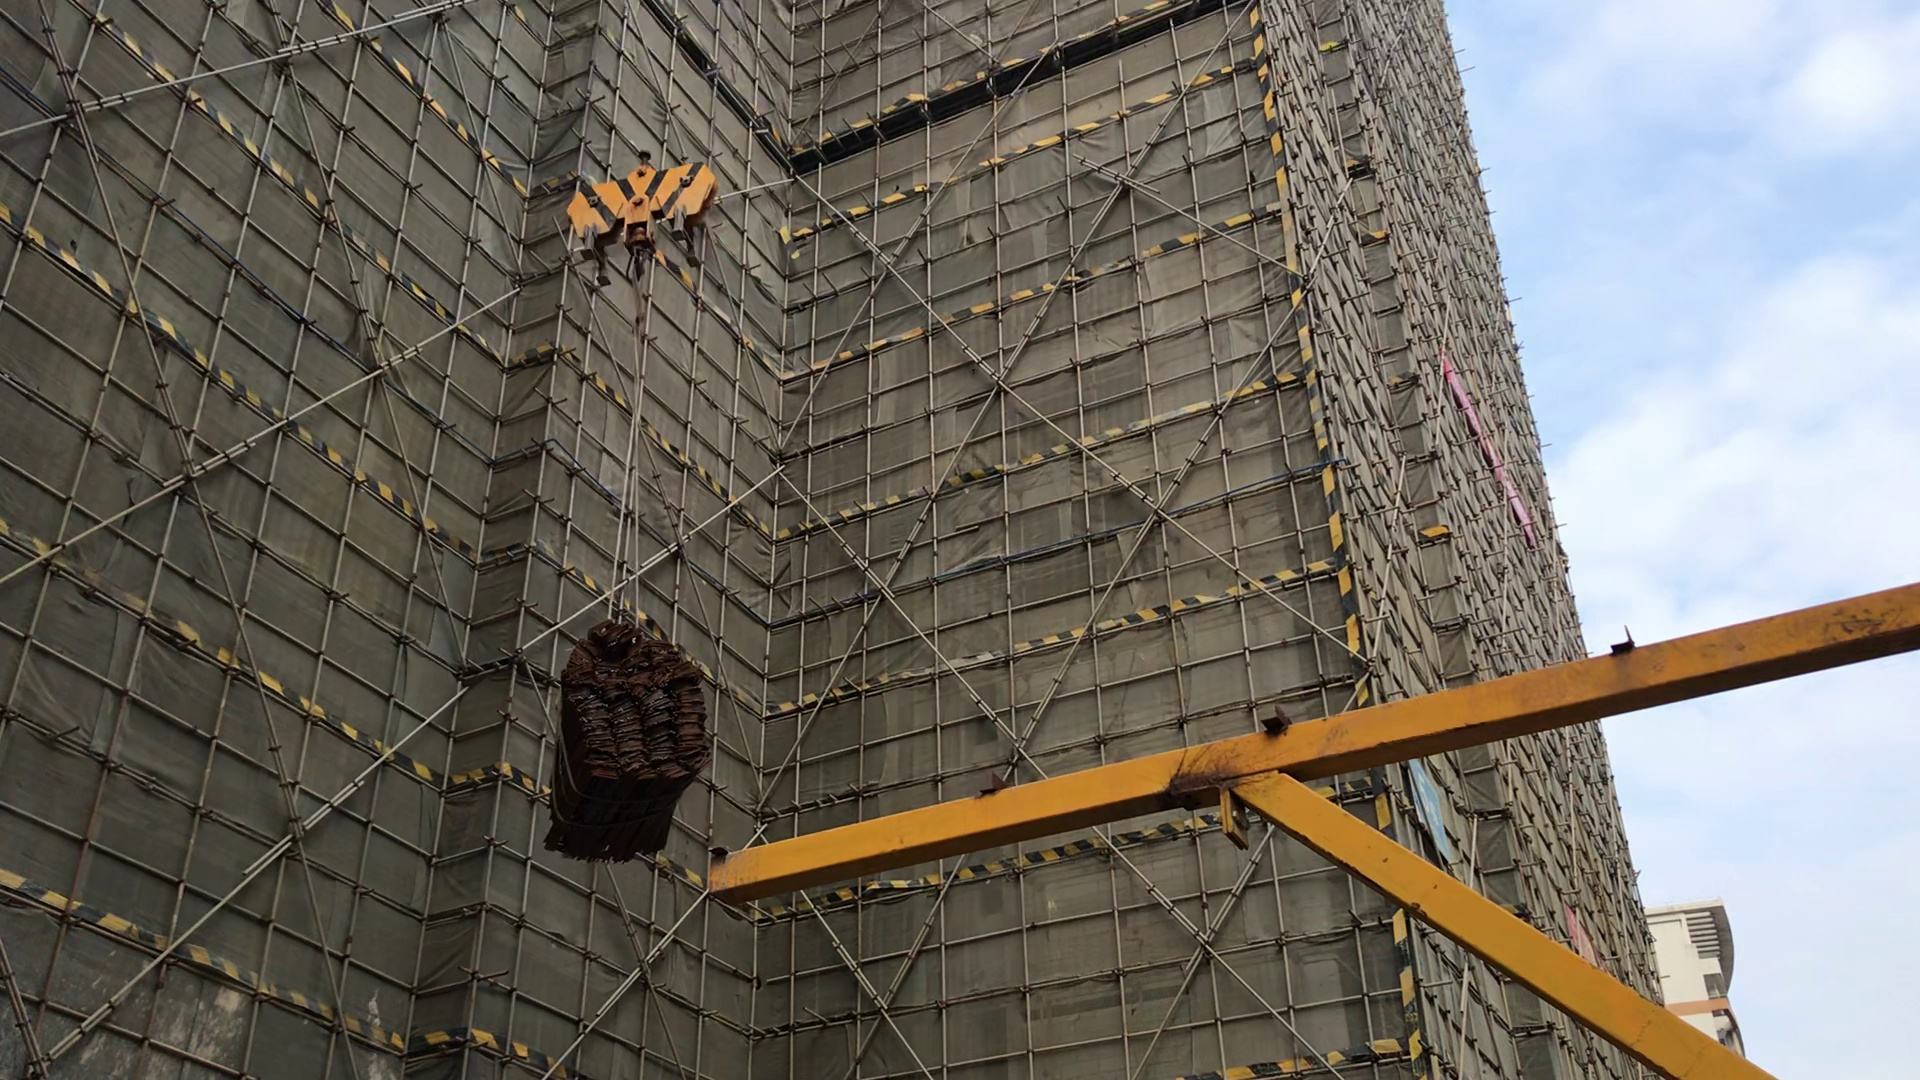hook: (571, 138, 737, 281)
